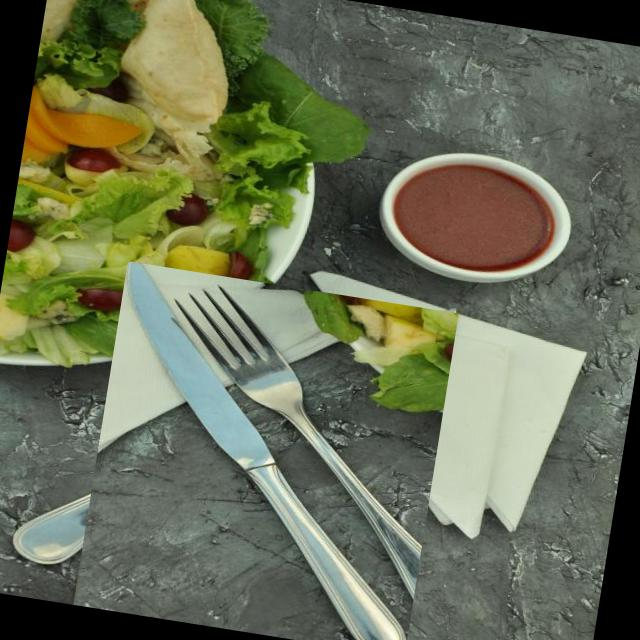Knife: (127, 263, 407, 640)
